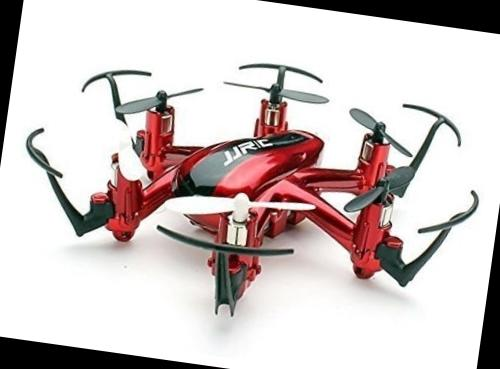drone: (9, 28, 500, 332)
